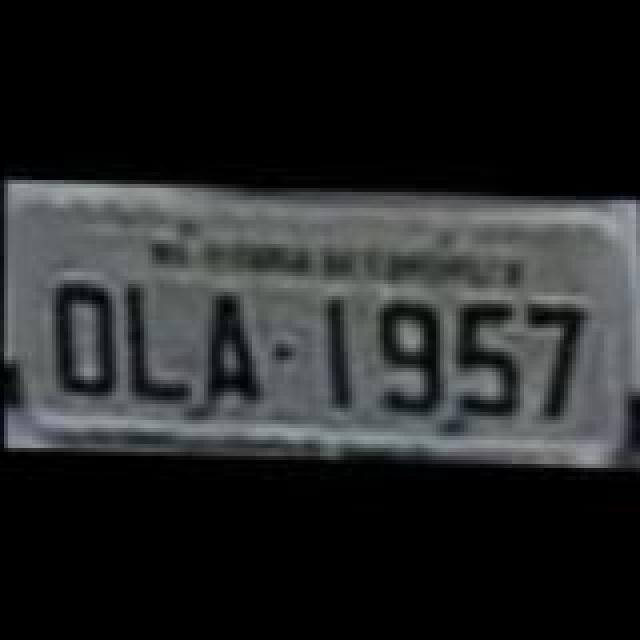1: (312, 290, 364, 406)
5: (442, 300, 522, 420)
7: (514, 300, 594, 424)
9: (368, 292, 444, 416)
A: (194, 286, 266, 410)
L: (114, 278, 202, 402)
O: (44, 278, 120, 402)
